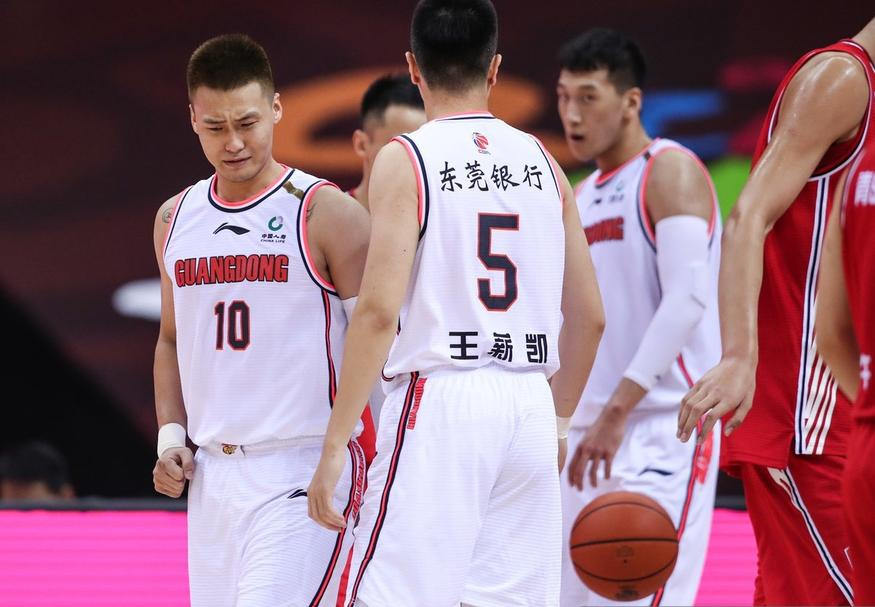ball: (570, 491, 680, 603)
